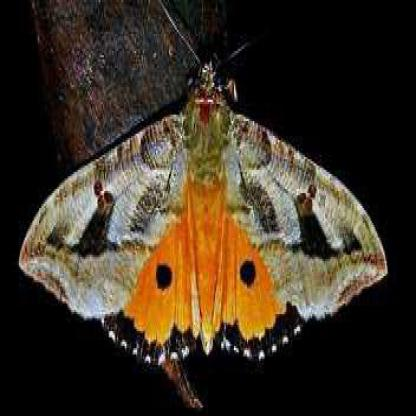fruit sucking moth: (19, 59, 389, 365)
